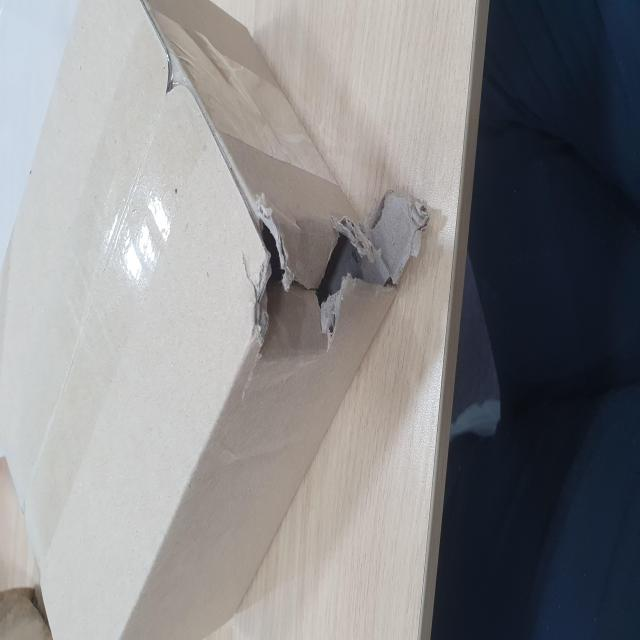damaged: (174, 457, 245, 640)
